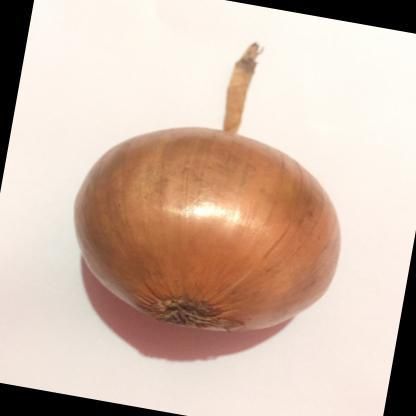onion: (35, 98, 379, 372)
